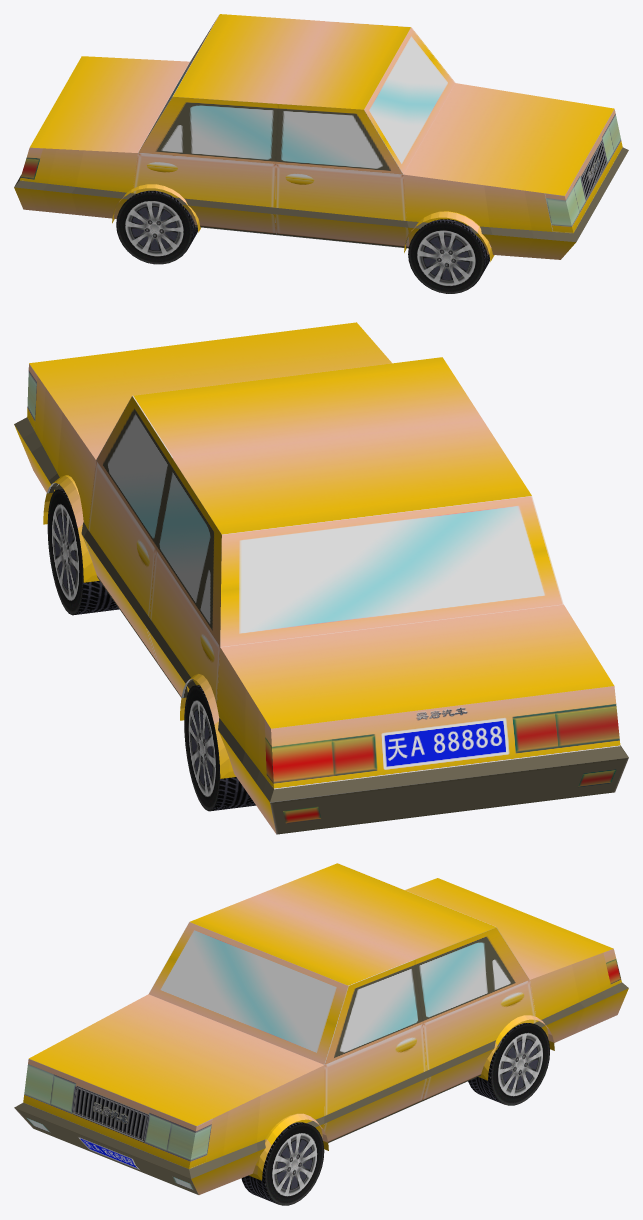
Rendered from car.glb.
The picture shows the model from 3 angles, top to bottom: view 1: azimuth 30°, elevation 25°; view 2: azimuth 150°, elevation 25°; view 3: azimuth 270°, elevation 25°; orthographic projection. The views are drawn at different scales.
Visible parts, largest first — view 1: Cylinder.004; view 2: Cylinder.004; view 3: Cylinder.004.
Boxes of the visible parts, bbox=[...] form: Cylinder.004: bbox=[14, 14, 628, 293]; Cylinder.004: bbox=[14, 322, 628, 834]; Cylinder.004: bbox=[14, 863, 628, 1205].
Size of the model in its own units: 17.12 by 5.5 by 16.76.
Materials: 5 (5 with a texture image).
